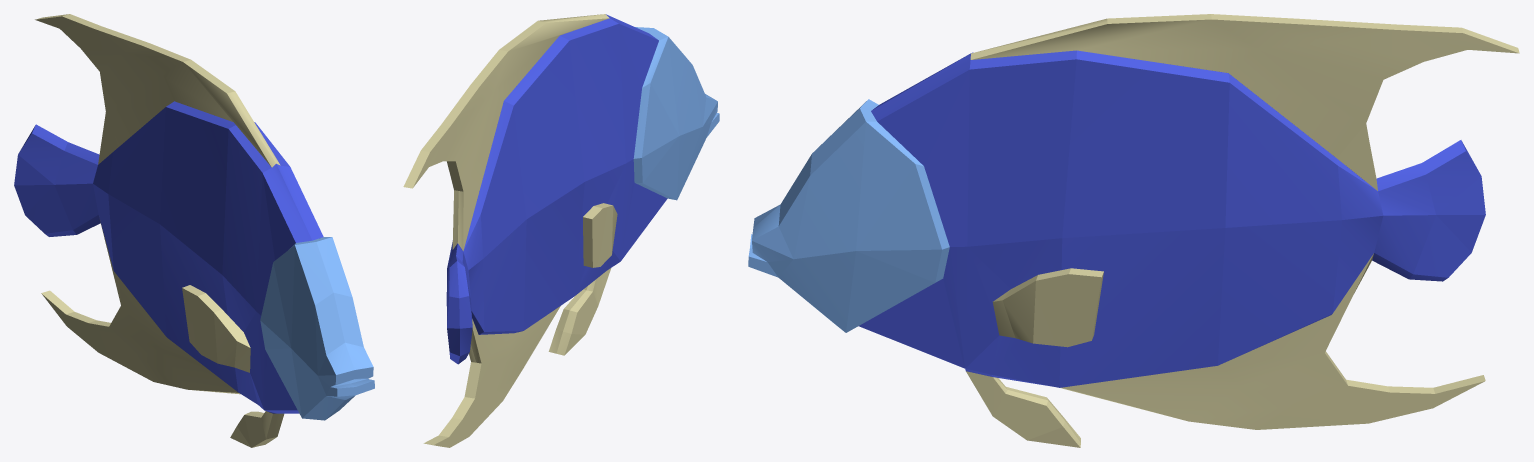
File: nage-fish2.glb
The picture shows the model from 3 angles, left to right: view 1: azimuth 30°, elevation 25°; view 2: azimuth 150°, elevation 25°; view 3: azimuth 270°, elevation 25°; orthographic projection. The views are drawn at different scales.
Parts seen in each view (by area): view 1: Fish_2, Fish_1, Fish; view 2: Fish_2, Fish_1, Fish; view 3: Fish_2, Fish_1, Fish.
Part boxes in pixels (<box>): Fish_2: <box>14,101,323,413</box>; Fish_1: <box>35,14,284,447</box>; Fish: <box>260,237,374,420</box>; Fish_2: <box>446,14,667,364</box>; Fish_1: <box>403,14,617,447</box>; Fish: <box>633,27,719,200</box>; Fish_2: <box>858,50,1485,387</box>; Fish_1: <box>966,14,1519,447</box>; Fish: <box>748,99,949,332</box>.
Size of the model in its own units: 0.087 by 0.2467 by 0.404.
